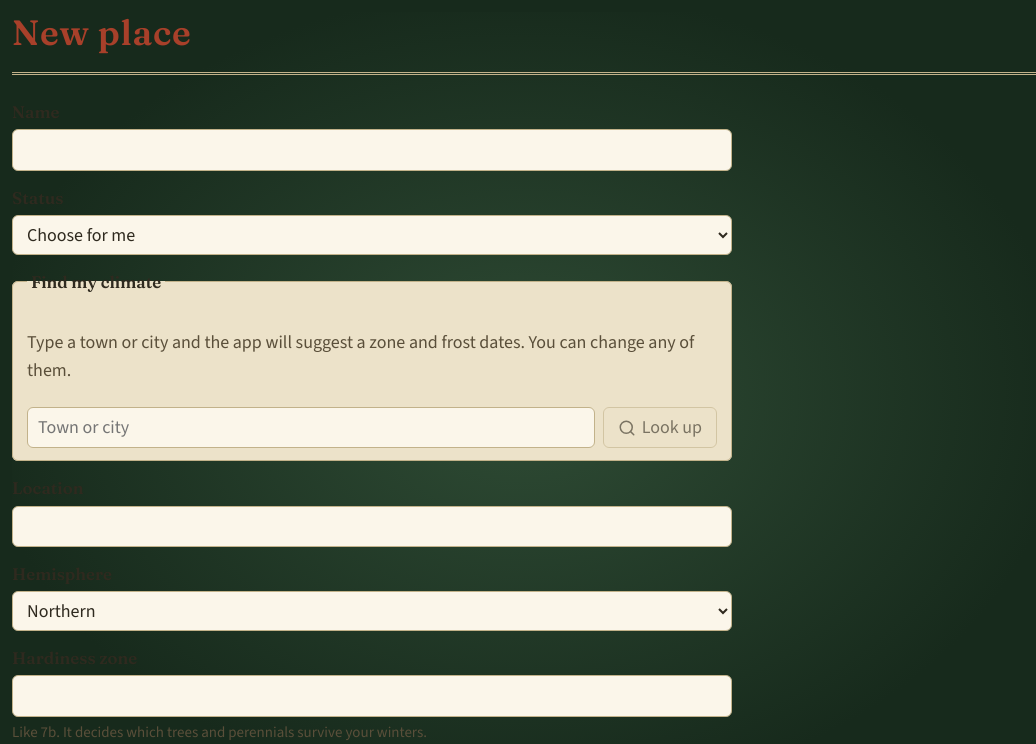
place form › no results says so
Type "Springfield" into the field labelled "Town or city" at (311, 428), box 27,407 -> 595,448
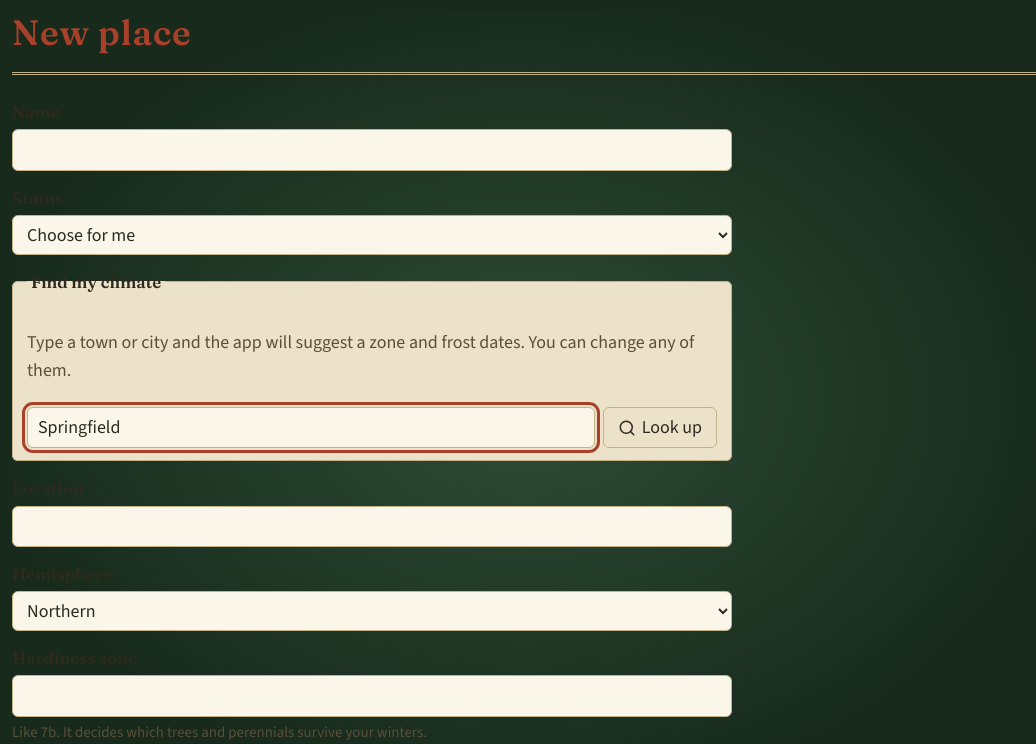
Click the button "Look up" at (660, 428), box 603,407 -> 717,448
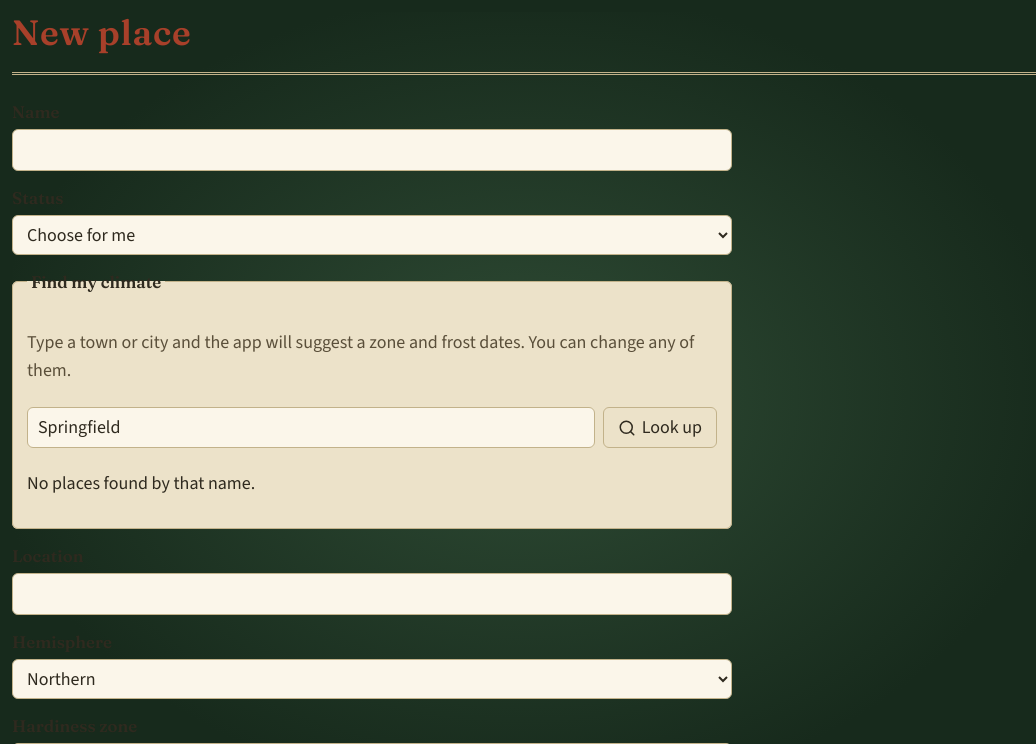
Expected: the text "No places found by that name." is shown, 27,472 -> 255,496
